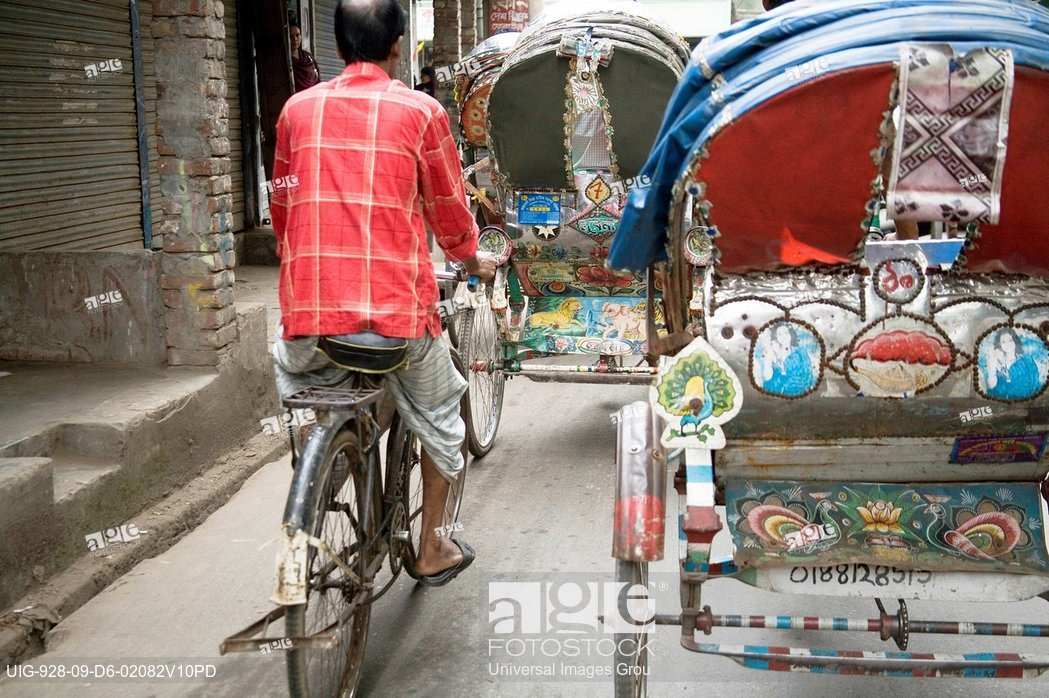Rickshaw: (643, 21, 1041, 675), (489, 28, 713, 402), (440, 14, 533, 245)
